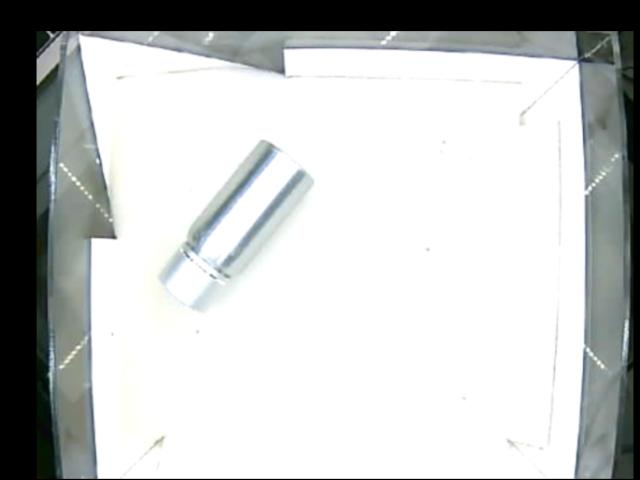Bottle: (158, 138, 313, 315)
